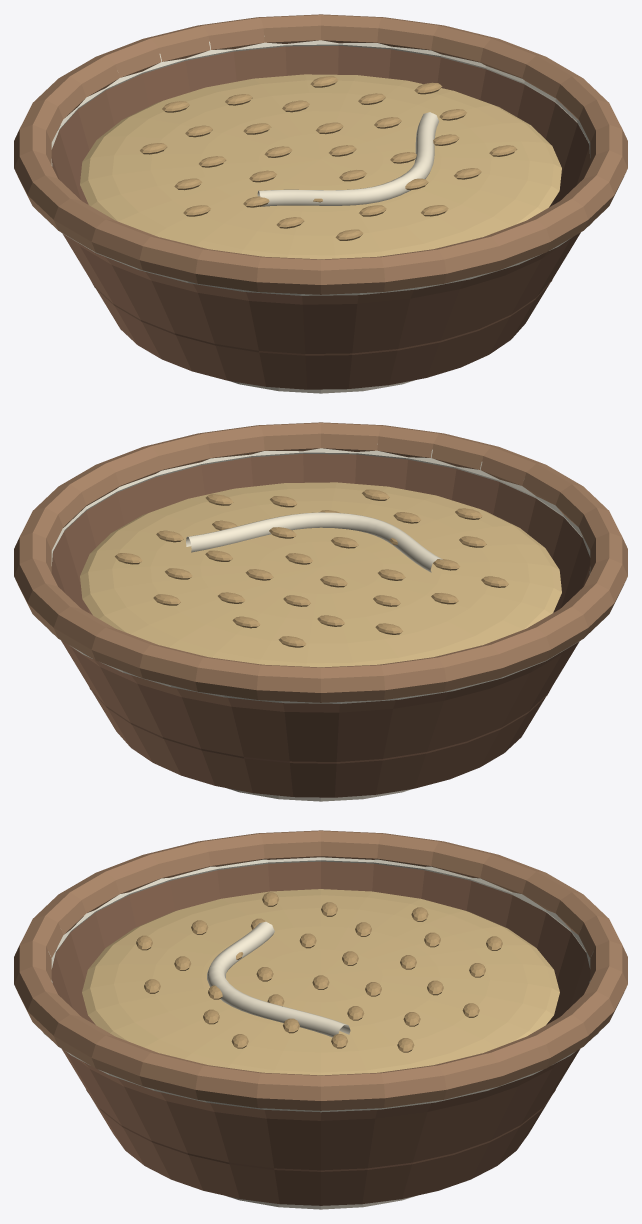
File: portioned_coconut_millet.glb
3 views of the same model, one above another, from view 1: azimuth 30°, elevation 25°; view 2: azimuth 150°, elevation 25°; view 3: azimuth 270°, elevation 25° (orthographic).
Visible parts, largest first — view 1: plain_millet_portion, plain_coconut_shell_portion_hollow_profile, rough_coconut_shell_fibre, milk_just_poured, plain_coconut_shell_portion_rolled_lip, plain_coconut_shell_portion_foot_ring; view 2: plain_millet_portion, plain_coconut_shell_portion_hollow_profile, rough_coconut_shell_fibre, milk_just_poured, plain_coconut_shell_portion_rolled_lip, plain_coconut_shell_portion_foot_ring; view 3: plain_millet_portion, plain_coconut_shell_portion_hollow_profile, rough_coconut_shell_fibre, milk_just_poured, plain_coconut_shell_portion_rolled_lip, plain_coconut_shell_portion_foot_ring.
Boxes of the visible parts, x1=… form: plain_millet_portion: x1=80, y1=74, x2=561, y2=259; plain_coconut_shell_portion_hollow_profile: x1=51, y1=45, x2=590, y2=389; rough_coconut_shell_fibre: x1=14, y1=14, x2=627, y2=294; milk_just_poured: x1=257, y1=112, x2=438, y2=206; plain_coconut_shell_portion_rolled_lip: x1=51, y1=36, x2=592, y2=295; plain_coconut_shell_portion_foot_ring: x1=229, y1=380, x2=415, y2=393; plain_millet_portion: x1=80, y1=482, x2=561, y2=667; plain_coconut_shell_portion_hollow_profile: x1=51, y1=453, x2=590, y2=797; rough_coconut_shell_fibre: x1=14, y1=422, x2=627, y2=702; milk_just_poured: x1=186, y1=512, x2=442, y2=572; plain_coconut_shell_portion_rolled_lip: x1=49, y1=444, x2=590, y2=703; plain_coconut_shell_portion_foot_ring: x1=226, y1=788, x2=412, y2=801; plain_millet_portion: x1=82, y1=889, x2=559, y2=1075; plain_coconut_shell_portion_hollow_profile: x1=51, y1=861, x2=590, y2=1205; rough_coconut_shell_fibre: x1=14, y1=830, x2=627, y2=1110; milk_just_poured: x1=207, y1=921, x2=350, y2=1037; plain_coconut_shell_portion_rolled_lip: x1=43, y1=857, x2=598, y2=1112; plain_coconut_shell_portion_foot_ring: x1=226, y1=1196, x2=415, y2=1209.
Size of the model in its own units: 0.718 by 0.24 by 0.7141.
